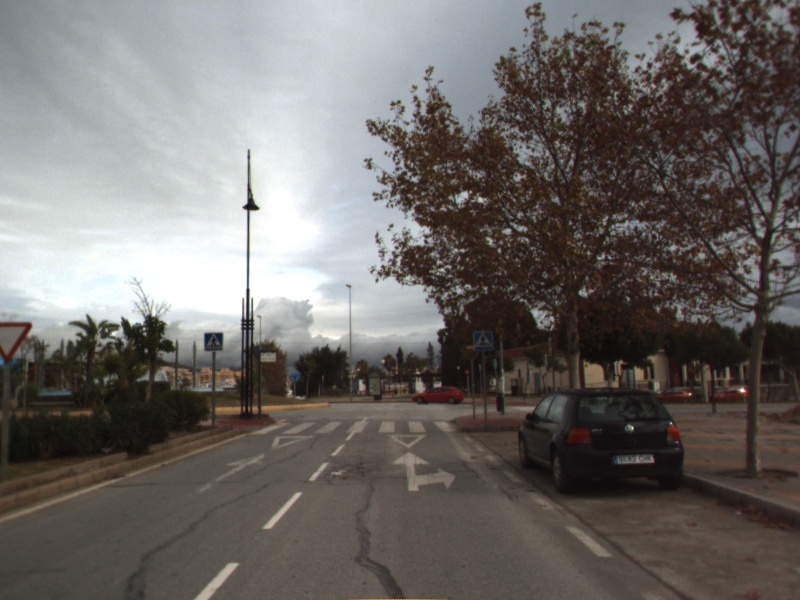STRAIGHT: (196, 451, 266, 494)
STRAIGHT_RIGHT: (389, 449, 458, 493)
